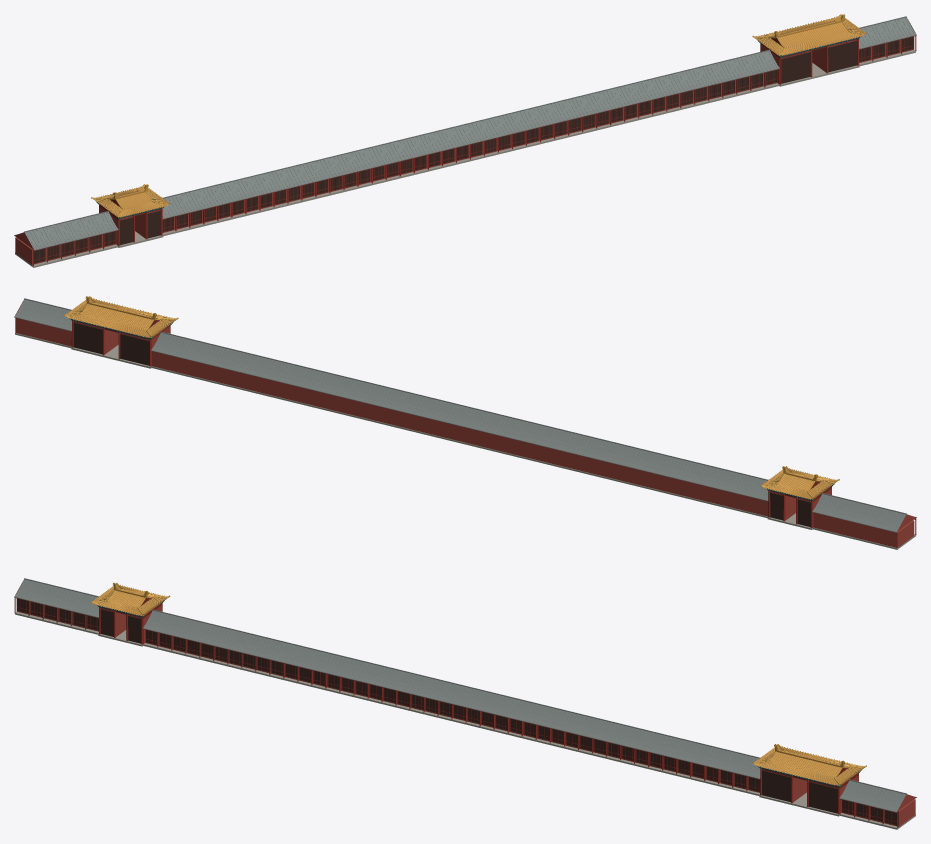
File: axis-nw-preview.glb
3 views of the same model, one above another, from view 1: azimuth 30°, elevation 25°; view 2: azimuth 150°, elevation 25°; view 3: azimuth 330°, elevation 25° (orthographic).
Parts seen in each view (by area): view 1: axis-nw grayRoof, axis-nw wood, axis-nw redDark, axis-nw grayTile, axis-nw stone, axis-nw wall, axis-nw roof, axis-nw tile, axis-nw red, axis-nw grayRidge; view 2: axis-nw grayRoof, axis-nw wall, axis-nw grayTile, axis-nw roof, axis-nw tile, axis-nw stone, axis-nw grayRidge, axis-nw wood, axis-nw red; view 3: axis-nw grayRoof, axis-nw wood, axis-nw redDark, axis-nw grayTile, axis-nw stone, axis-nw wall, axis-nw roof, axis-nw tile, axis-nw red, axis-nw grayRidge.
Part boxes in pixels (box(x1,y1,x2,y2)): axis-nw grayRoof: box(24, 17, 916, 249); axis-nw wood: box(34, 36, 913, 263); axis-nw redDark: box(32, 37, 913, 263); axis-nw grayTile: box(26, 17, 914, 249); axis-nw stone: box(15, 50, 916, 267); axis-nw wall: box(14, 20, 915, 264); axis-nw roof: box(92, 16, 864, 216); axis-nw tile: box(92, 15, 865, 217); axis-nw red: box(32, 35, 916, 265); axis-nw grayRidge: box(14, 16, 916, 250); axis-nw grayRoof: box(15, 299, 906, 531); axis-nw wall: box(15, 301, 916, 547); axis-nw grayTile: box(16, 300, 904, 531); axis-nw roof: box(66, 298, 838, 498); axis-nw tile: box(65, 297, 838, 499); axis-nw stone: box(15, 333, 916, 549); axis-nw grayRidge: box(14, 298, 916, 532); axis-nw wood: box(73, 322, 810, 526); axis-nw red: box(71, 320, 916, 534); axis-nw grayRoof: box(14, 579, 906, 811); axis-nw wood: box(17, 598, 896, 825); axis-nw redDark: box(17, 598, 898, 825); axis-nw grayTile: box(16, 580, 904, 811); axis-nw stone: box(14, 611, 915, 829); axis-nw wall: box(15, 582, 916, 826); axis-nw roof: box(93, 584, 865, 785); axis-nw tile: box(92, 583, 865, 785); axis-nw red: box(14, 597, 898, 827); axis-nw grayRidge: box(14, 578, 916, 812).
Size of the model in its own units: 2.56 by 0.1297 by 0.1328.
